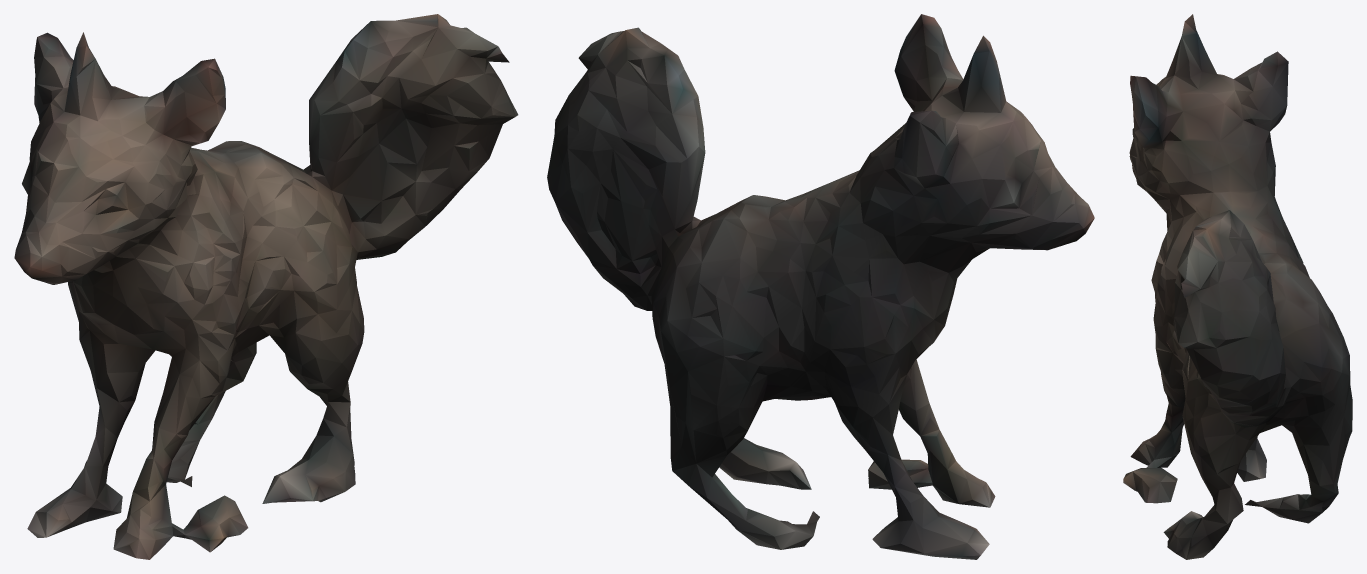
The model's file is rat.glb.
The picture shows the model from 3 angles, left to right: view 1: azimuth 30°, elevation 25°; view 2: azimuth 150°, elevation 25°; view 3: azimuth 270°, elevation 25°; orthographic projection. The views are drawn at different scales.
Visible parts, largest first — view 1: geometry_0; view 2: geometry_0; view 3: geometry_0.
Part boxes in pixels (box(x1,y1,x2,y2)): geometry_0: box(14, 14, 518, 559); geometry_0: box(547, 14, 1094, 559); geometry_0: box(1123, 14, 1352, 559).
Bounding box in the file's own units: 0.9859 × 0.9532 × 0.447.
